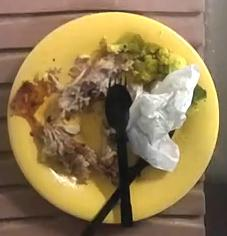vegetables: (105, 34, 186, 87)
